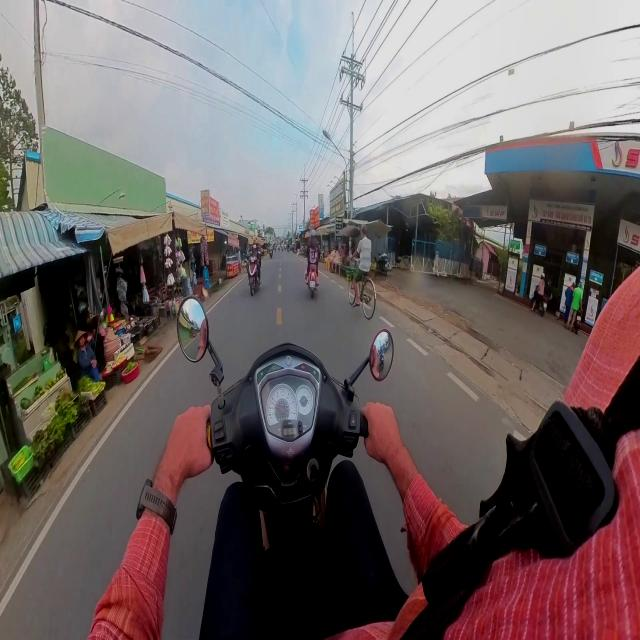motorcycle: (178, 297, 392, 638), (248, 256, 259, 296), (308, 265, 318, 298)
